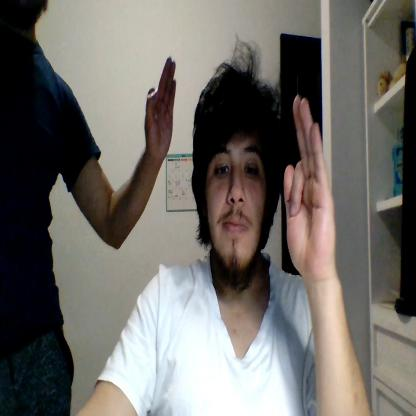F: (283, 95, 335, 277), (144, 56, 176, 157)
